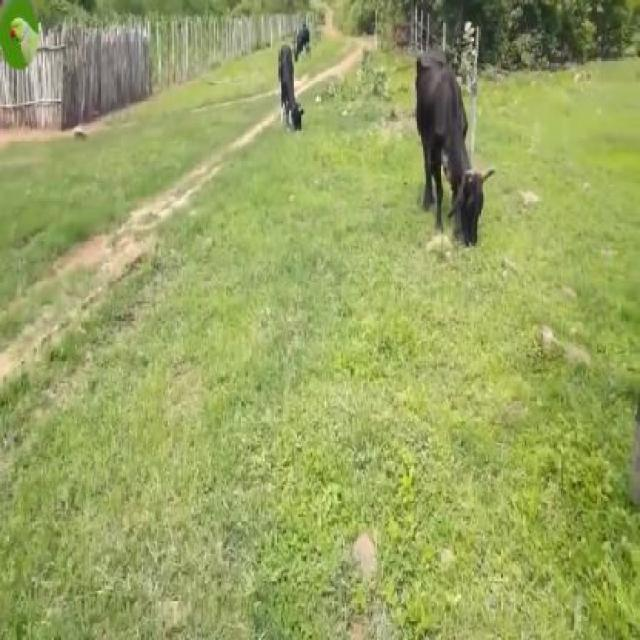Cow: (416, 52, 496, 248)
